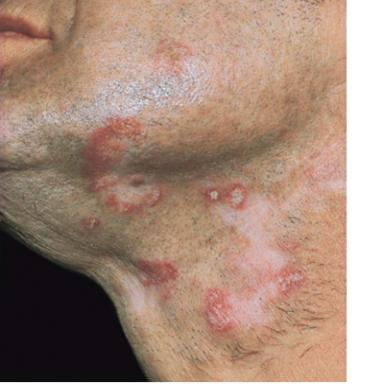Lupus-Erythematosus-Chronicus-Discoides: (204, 185, 306, 333), (81, 117, 164, 213)
